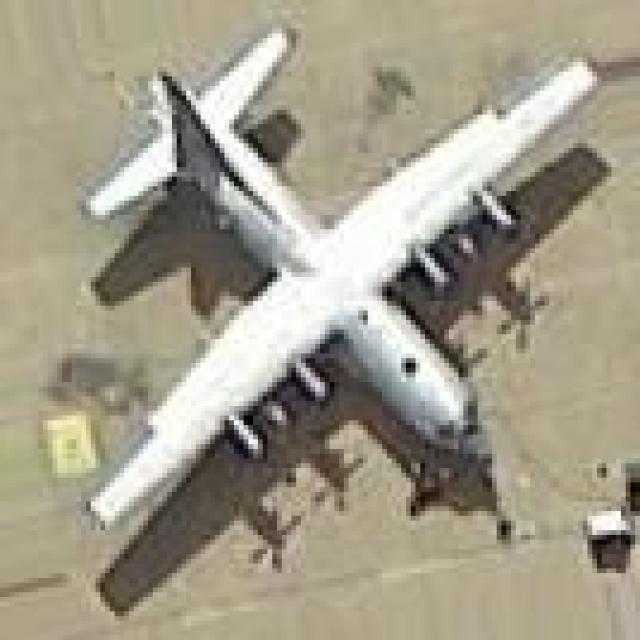C-130_TopDown: (76, 28, 609, 614)
